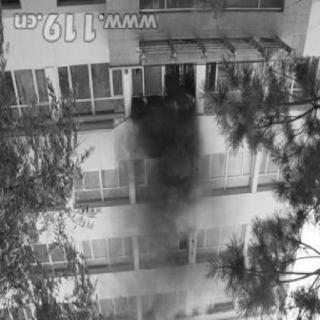Fire: (159, 66, 199, 116), (138, 92, 156, 110)
Smoke: (132, 114, 215, 308)
